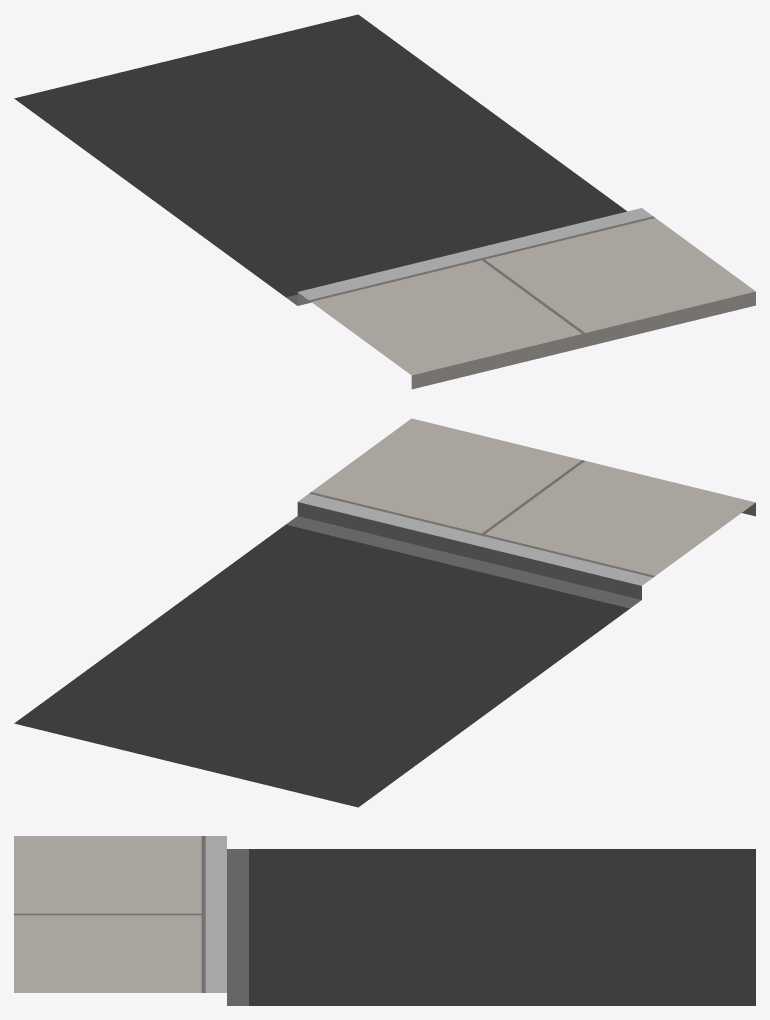
Rendered from SA_Env_Road_Straight_clear_01.fbx.
3 views of the same model, one above another, from view 1: azimuth 30°, elevation 25°; view 2: azimuth 150°, elevation 25°; view 3: azimuth 270°, elevation 25° (orthographic). The views are drawn at different scales.
Parts seen in each view (by area): view 1: SA_Env_Road_Straight_clear_01; view 2: SA_Env_Road_Straight_clear_01; view 3: SA_Env_Road_Straight_clear_01.
Part boxes in pixels (x1,y1,x2,y2): SA_Env_Road_Straight_clear_01: (14, 14, 755, 389); SA_Env_Road_Straight_clear_01: (14, 418, 755, 807); SA_Env_Road_Straight_clear_01: (14, 836, 755, 1005).
Size of the model in its own units: 5 by 0.1948 by 10.
Materials: 1 (1 with a texture image).
